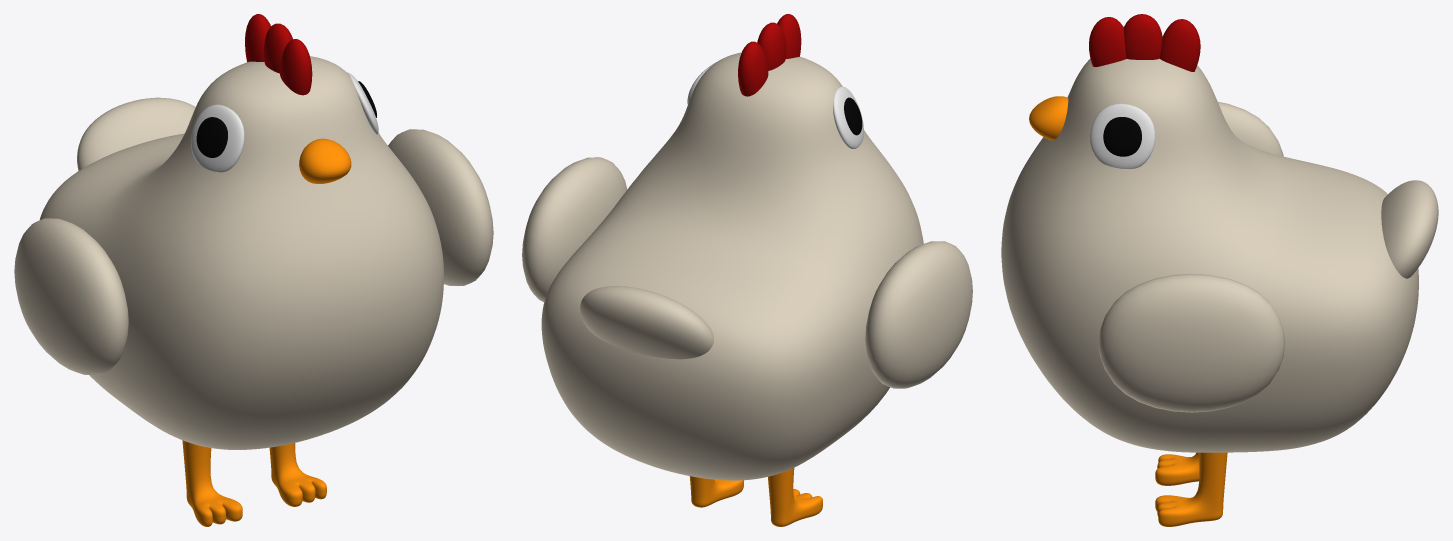
Rendered from chicken.fbx.
The picture shows the model from 3 angles, left to right: view 1: azimuth 30°, elevation 25°; view 2: azimuth 150°, elevation 25°; view 3: azimuth 270°, elevation 25°; orthographic projection. The views are drawn at different scales.
Visible parts, largest first — view 1: Body, WingRight, WingLeft, Tail, LegRight, LegLeft, EyeRight, Mouth, Cube, IrisRight, Comb, Cube.002; view 2: Body, WingRight, WingLeft, Tail, LegRight, Cube.002, LegLeft, Comb, EyeRight, Cube; view 3: Body, WingLeft, Tail, LegLeft, EyeLeft, Cube.002, WingRight, Comb, Cube, Mouth, IrisLeft, LegRight.
Part boxes in pixels (<box>): Body: <box>39,56,443,449</box>; WingRight: <box>14,218,128,375</box>; WingLeft: <box>388,129,493,285</box>; Tail: <box>77,97,195,170</box>; LegRight: <box>182,440,242,526</box>; LegLeft: <box>269,443,326,506</box>; EyeRight: <box>191,104,244,172</box>; Mouth: <box>299,138,351,183</box>; Cube: <box>280,39,312,95</box>; IrisRight: <box>196,117,227,157</box>; Comb: <box>263,23,292,73</box>; Cube.002: <box>245,14,270,62</box>; Body: <box>541,52,923,480</box>; WingRight: <box>865,241,972,388</box>; WingLeft: <box>522,157,627,301</box>; Tail: <box>580,286,713,359</box>; LegRight: <box>768,468,822,526</box>; Cube.002: <box>738,41,768,96</box>; LegLeft: <box>689,476,743,507</box>; Comb: <box>757,22,786,70</box>; EyeRight: <box>833,86,863,148</box>; Cube: <box>777,14,801,58</box>; Body: <box>1001,58,1418,452</box>; WingLeft: <box>1098,273,1285,412</box>; Tail: <box>1381,180,1438,278</box>; LegLeft: <box>1155,452,1227,526</box>; EyeLeft: <box>1090,103,1155,168</box>; Cube.002: <box>1159,19,1200,71</box>; WingRight: <box>1218,102,1283,156</box>; Comb: <box>1123,14,1162,59</box>; Cube: <box>1089,17,1126,66</box>; Mouth: <box>1029,96,1068,140</box>; IrisLeft: <box>1103,117,1141,156</box>; LegRight: <box>1155,452,1199,485</box>.
Bounding box in the file's own units: 433 × 484 × 394.
